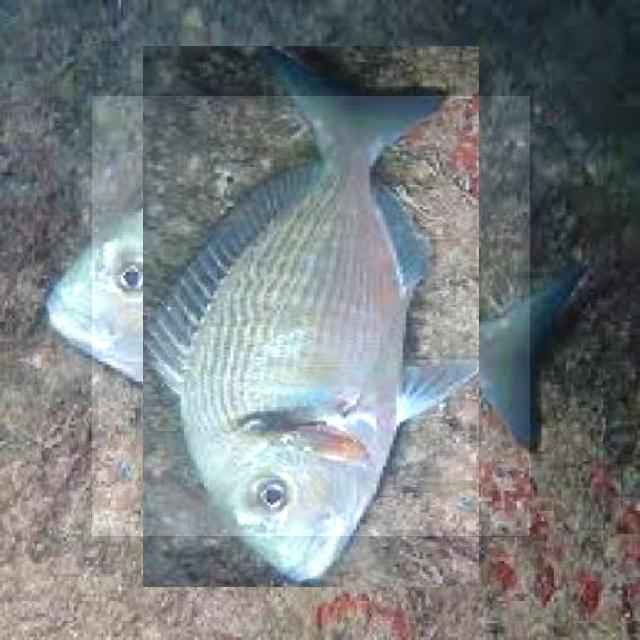Healthy Fish: (92, 96, 530, 536)
